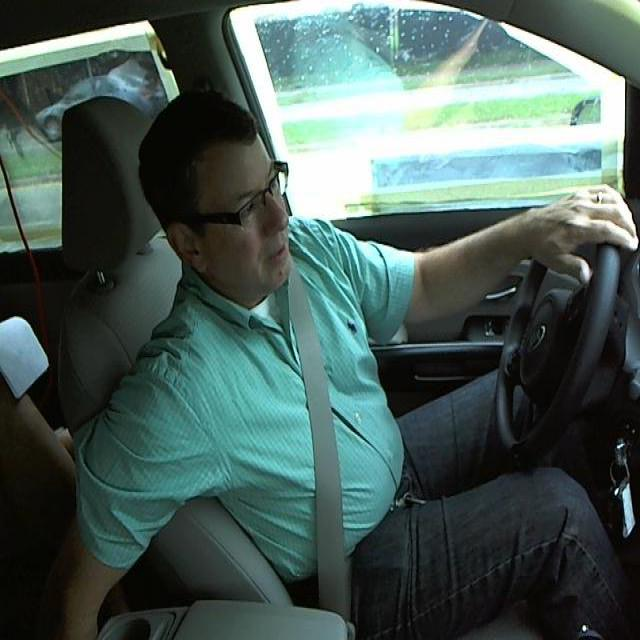seatbelt: (281, 290, 368, 610)
